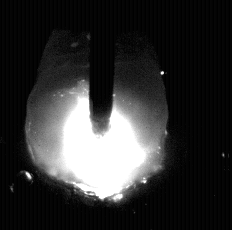arame: (90, 0, 115, 135)
poca: (25, 0, 168, 230)
